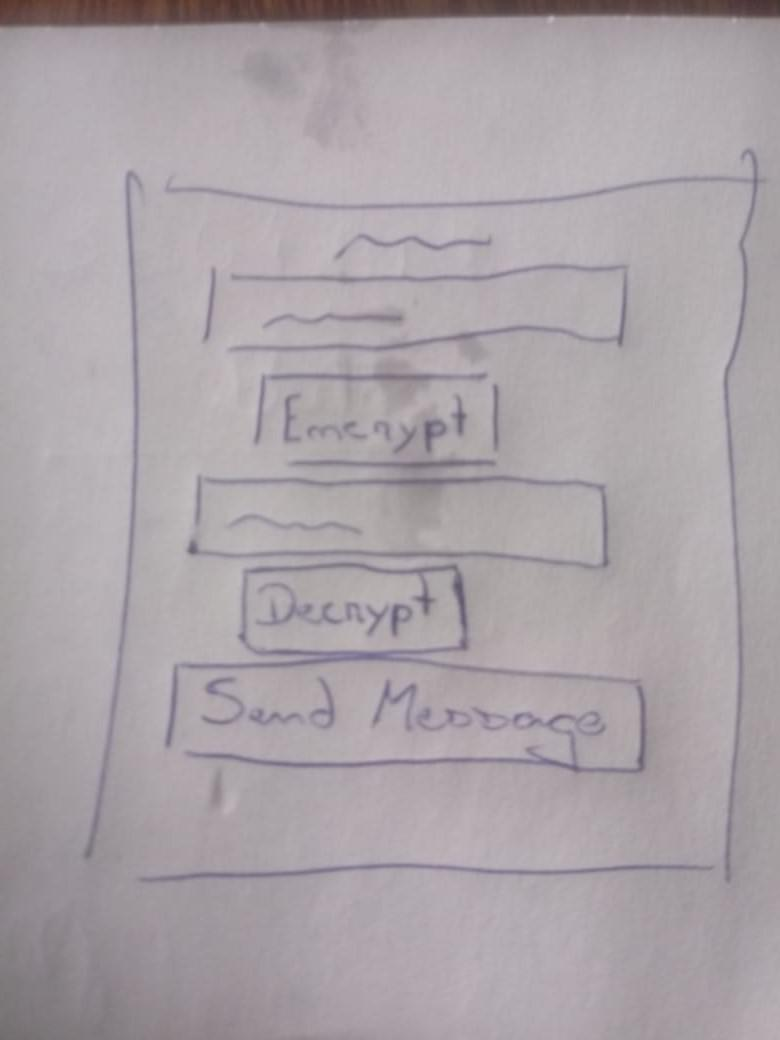Button: (166, 657, 648, 772), (256, 373, 499, 467), (240, 563, 470, 657)
Label: (336, 232, 492, 262)
Screen: (85, 172, 759, 884)
TextBox: (188, 476, 608, 570), (204, 264, 628, 353)
